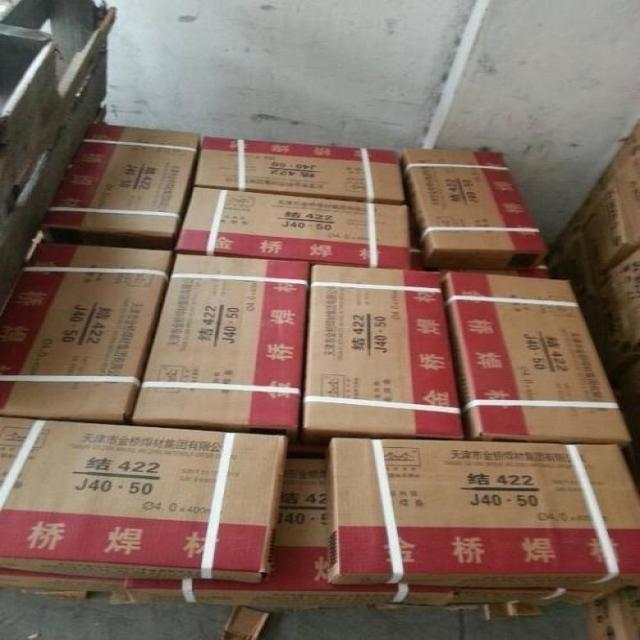box: (127, 457, 613, 606), (0, 415, 287, 583), (324, 438, 640, 587), (443, 270, 634, 444), (133, 252, 311, 437), (0, 241, 173, 422), (300, 264, 465, 443), (174, 185, 410, 269), (399, 149, 550, 272), (42, 123, 201, 237), (193, 134, 406, 205)
